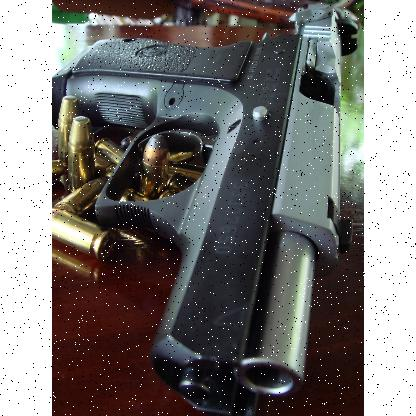gun: (52, 3, 356, 415)
